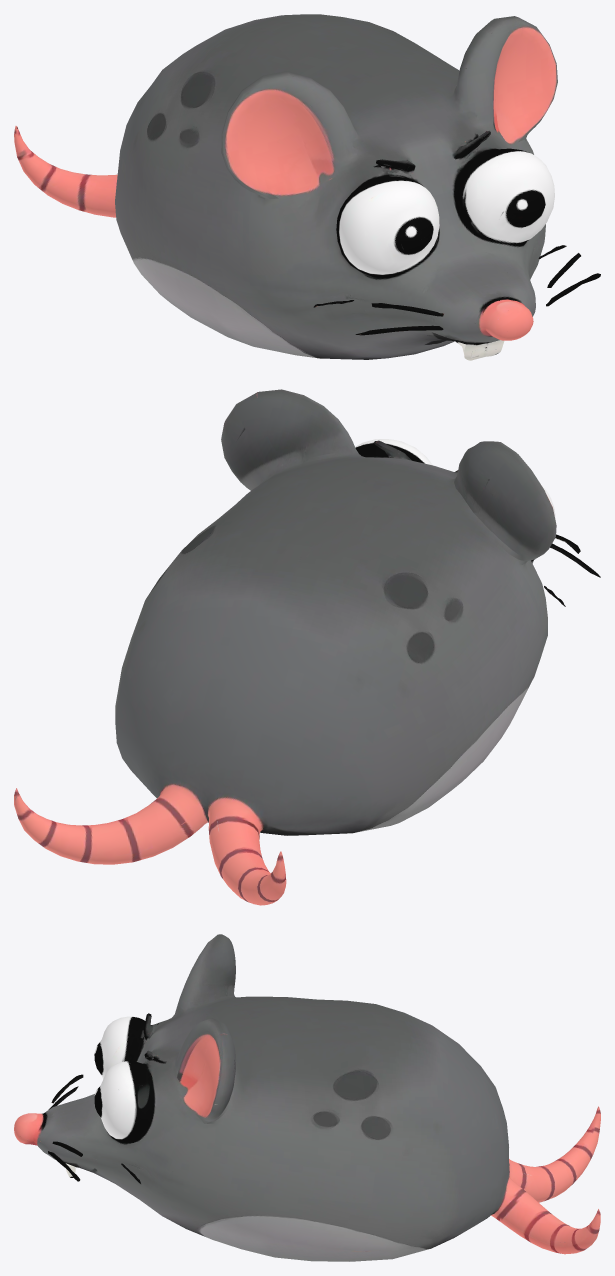
Rendered from rat.glb.
3 renders of one model, top to bottom at view 1: azimuth 30°, elevation 25°; view 2: azimuth 150°, elevation 25°; view 3: azimuth 270°, elevation 25°, orthographic. The views are drawn at different scales.
Parts seen in each view (by area): view 1: Mesh0; view 2: Mesh0; view 3: Mesh0.
Part boxes in pixels (x1,y1,x2,y2): Mesh0: (14, 14, 600, 360); Mesh0: (14, 389, 600, 905); Mesh0: (14, 934, 600, 1261).
Size of the model in its own units: 0.9868 by 0.8924 by 1.91.
1 material, 1 textured.
